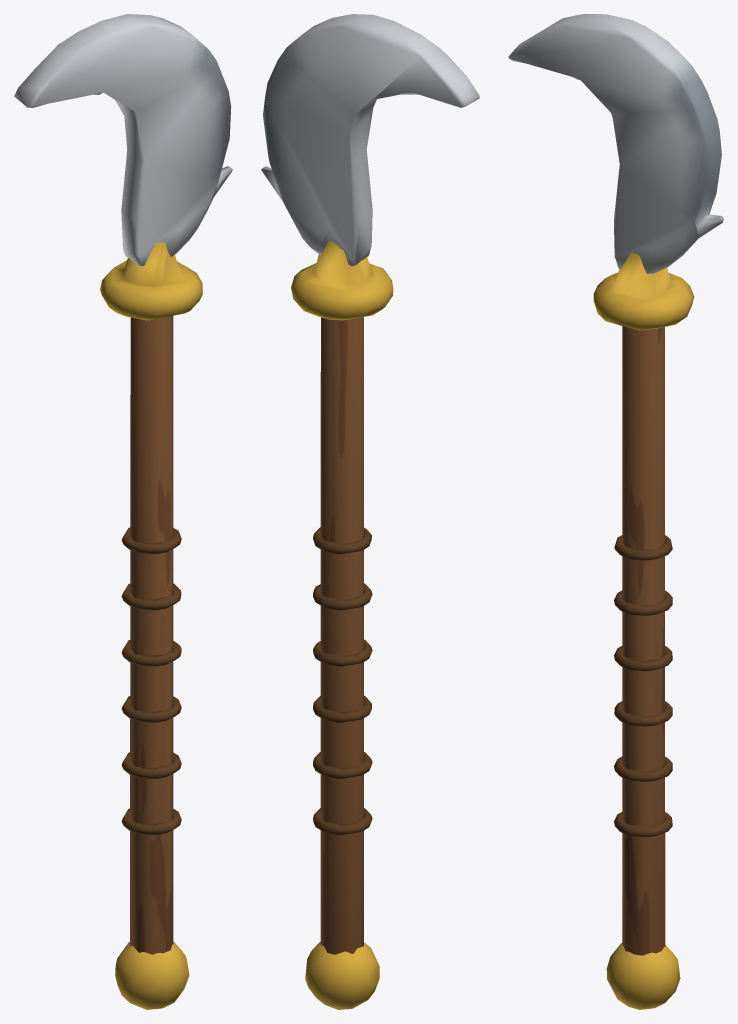
Rendered from glaive.glb.
3 views of the same model, side by side, from view 1: azimuth 30°, elevation 25°; view 2: azimuth 150°, elevation 25°; view 3: azimuth 330°, elevation 25° (orthographic).
Parts seen in each view (by area): view 1: pole; view 2: pole; view 3: pole.
Boxes of the visible parts, box(x1,y1,x2,y2) form: pole: box(14, 14, 232, 1009); pole: box(261, 14, 479, 1009); pole: box(508, 14, 723, 1009).
Size of the model in its own units: 0.3541 by 1.59 by 0.1477.
1 material, 1 textured.
